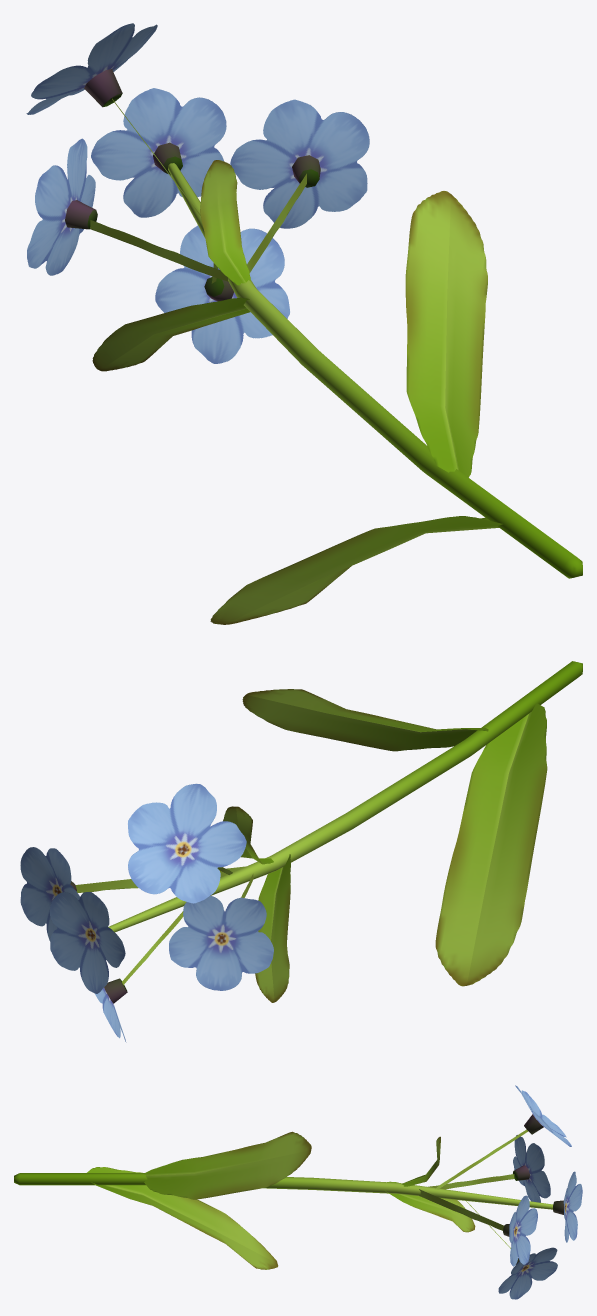
File: SM_Forgetmenot_pastellblue_small.fbx
The picture shows the model from 3 angles, top to bottom: view 1: azimuth 30°, elevation 25°; view 2: azimuth 150°, elevation 25°; view 3: azimuth 270°, elevation 25°; orthographic projection. The views are drawn at different scales.
Parts seen in each view (by area): view 1: Forgetmenot_pastellblue_small; view 2: Forgetmenot_pastellblue_small; view 3: Forgetmenot_pastellblue_small.
Boxes of the visible parts, x1,y1,x2,y2 form: Forgetmenot_pastellblue_small: (26,23,582,624); Forgetmenot_pastellblue_small: (20,661,582,1042); Forgetmenot_pastellblue_small: (14,1085,582,1299).
Bounding box in the file's own units: 29.11 × 25.97 × 62.01.
